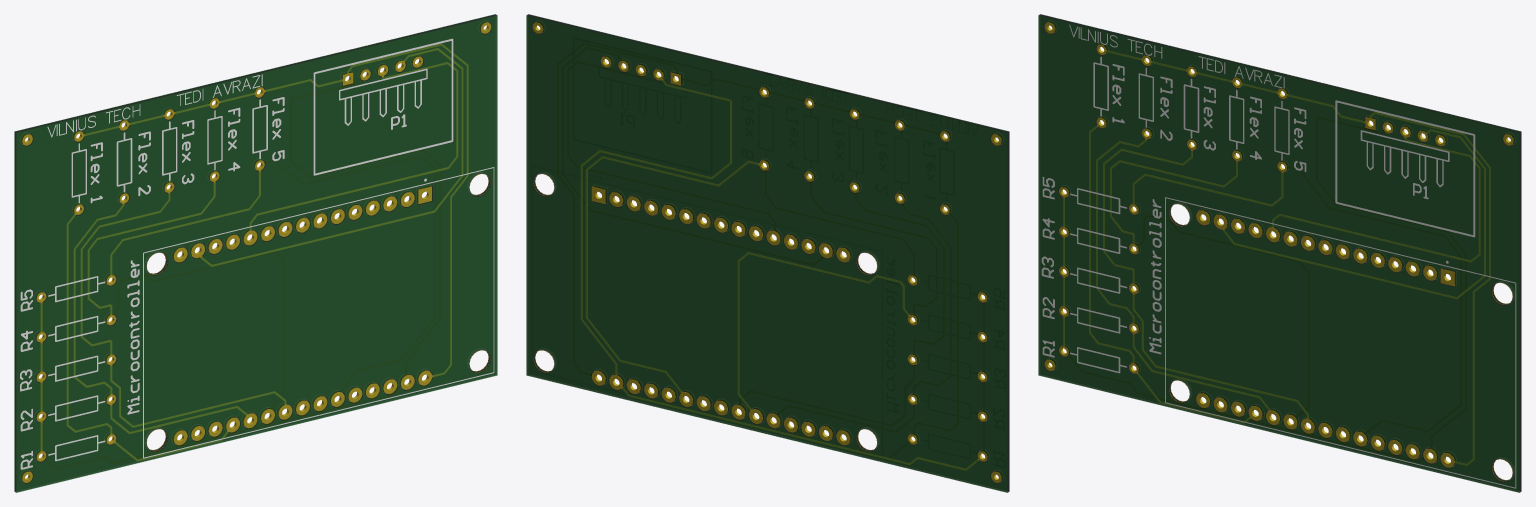
The model's file is PCB of Thesis.obj.
The picture shows the model from 3 angles, left to right: view 1: azimuth 30°, elevation 25°; view 2: azimuth 150°, elevation 25°; view 3: azimuth 330°, elevation 25°; orthographic projection.
Visible parts, largest first — view 1: Solder_Top, Core, Top, Microcontroller, Solder_Bottom, VIN, NetFlex 3_1, SCL, NetFlex 2_1, SDA, NetFlex 1_1; view 2: Solder_Bottom, Core, Microcontroller, GND, Solder_Top, NetFlex 5_1, NetFlex 4_1; view 3: Solder_Top, Core, Top, Microcontroller, Solder_Bottom, VIN, NetFlex 3_1, SCL, NetFlex 2_1, SDA, NetFlex 1_1.
Boxes of the visible parts, x1=… form: Solder_Top: x1=16, y1=15, x2=497, y2=492; Core: x1=14, y1=14, x2=497, y2=492; Top: x1=20, y1=38, x2=494, y2=469; Microcontroller: x1=146, y1=174, x2=490, y2=451; Solder_Bottom: x1=14, y1=14, x2=495, y2=491; VIN: x1=84, y1=43, x2=468, y2=377; NetFlex 3_1: x1=81, y1=191, x2=286, y2=427; SCL: x1=198, y1=48, x2=462, y2=266; NetFlex 2_1: x1=74, y1=203, x2=250, y2=433; SDA: x1=249, y1=62, x2=457, y2=233; NetFlex 1_1: x1=67, y1=213, x2=228, y2=460; Solder_Bottom: x1=526, y1=15, x2=1007, y2=492; Core: x1=526, y1=14, x2=1009, y2=492; Microcontroller: x1=533, y1=174, x2=877, y2=451; GND: x1=581, y1=78, x2=984, y2=470; Solder_Top: x1=528, y1=14, x2=1009, y2=491; NetFlex 5_1: x1=586, y1=156, x2=765, y2=395; NetFlex 4_1: x1=738, y1=182, x2=910, y2=413; Solder_Top: x1=1038, y1=15, x2=1519, y2=492; Core: x1=1038, y1=14, x2=1521, y2=492; Top: x1=1041, y1=24, x2=1516, y2=488; Microcontroller: x1=1169, y1=204, x2=1512, y2=481; Solder_Bottom: x1=1040, y1=14, x2=1521, y2=491; VIN: x1=1106, y1=50, x2=1490, y2=465; NetFlex 3_1: x1=1103, y1=148, x2=1308, y2=421; SCL: x1=1222, y1=129, x2=1485, y2=298; NetFlex 2_1: x1=1096, y1=136, x2=1272, y2=413; SDA: x1=1272, y1=135, x2=1480, y2=262; NetFlex 1_1: x1=1089, y1=124, x2=1252, y2=423.
Bounding box in the file's own units: 7 × 5 × 0.0528.
